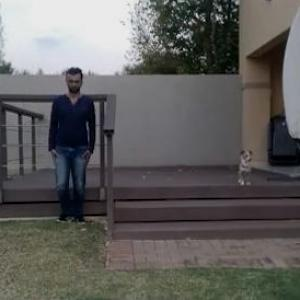follow: (47, 59, 96, 237)
